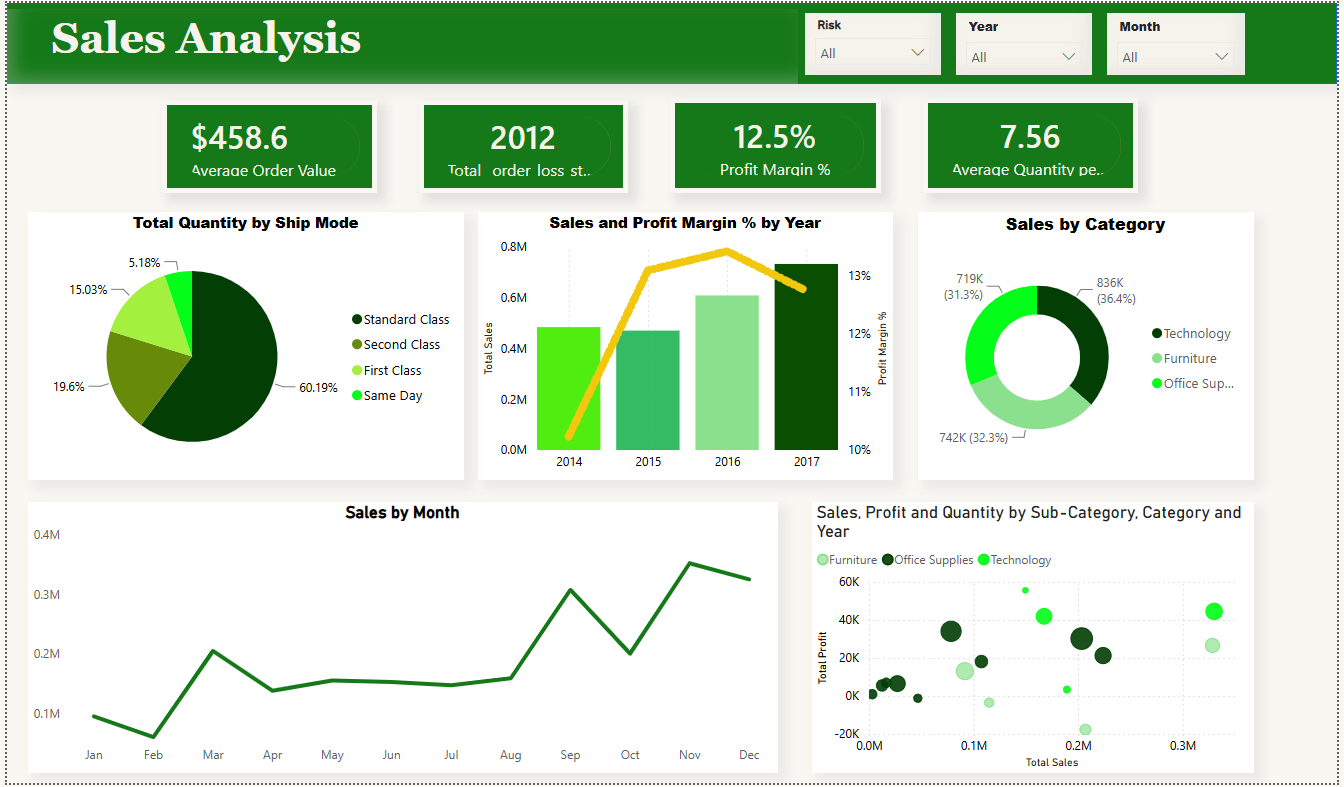

This screenshot's page, from the dashboard's own definition file:
{"tool":"powerbi","page":{"name":"Sales Analysis","canvas":[1330,780],"ordinal":1},"visuals":[{"type":"shape","box":[0,0,1330,81],"z":0},{"type":"cardVisual","fields":{"Data":["Measuress.Average Order Value"]},"box":[155,97,215,93],"z":0,"group":"g1"},{"type":"group","id":"g1","title":"Group 1","box":[155,95,976,95],"z":1000},{"type":"cardVisual","fields":{"Data":["Measuress.total _order_loss_statistic"]},"box":[412,97.1,209,92.9],"z":1000,"group":"g1"},{"type":"slicer","fields":{"Values":["DimDate.Year"]},"box":[949,10,136,62],"z":2000},{"type":"cardVisual","fields":{"Data":["Measuress.Profit Margin %"]},"box":[663,95.4,211,94.6],"z":2000,"group":"g1"},{"type":"slicer","fields":{"Values":["FactSales.Risk"]},"box":[798,10,136,62],"z":3000},{"type":"cardVisual","fields":{"Data":["Measuress.Average Quantity per Order"]},"box":[916,95,215,95],"z":3000,"group":"g1"},{"type":"slicer","fields":{"Values":["DimDate.Month Name"]},"box":[1100,10,138,62],"z":4000},{"type":"textbox","box":[0,6,791,75],"z":5000},{"type":"lineClusteredColumnComboChart","title":"Sales and Profit Margin % by Year","fields":{"Y":["Measuress.Total Sales"],"Category":["DimDate.Year"],"Y2":["Measuress.Profit Margin %"]},"box":[471,209,415,268],"z":6000},{"type":"scatterChart","title":"Sales, Profit and Quantity by Sub-Category, Category and Year","fields":{"Y":["Measuress.Total Profit"],"X":["Measuress.Total Sales"],"Category":["FactSales.Sub-Category"],"Size":["Measuress.Total Quantity"],"Series":["FactSales.Category"]},"box":[805,499,442,271],"z":7000},{"type":"lineChart","title":"Sales by Month ","fields":{"Category":["DimDate.Month Name"],"Y":["Measuress.Total Sales"]},"box":[21,499,750,271],"z":8000},{"type":"donutChart","title":"Sales by Category","fields":{"Category":["FactSales.Category"],"Y":["Measuress.Total Sales"]},"box":[911,209,336,268],"z":8001},{"type":"pieChart","fields":{"Category":["FactSales.Ship Mode"],"Y":["Measuress.Total Quantity"]},"box":[21,209,436,268],"z":8002}]}

Visuals, with their boxes in screenshot pixels (x1, y1, x2, y2), scaled from the page's 1330x780 canvas onto the 1344x787 screenshot:
shape: detection(0, 0, 1343, 82)
cardVisual - Measuress.Average Order Value: detection(157, 98, 374, 192)
"Group 1" group: detection(157, 96, 1143, 192)
cardVisual - Measuress.total _order_loss_statistic: detection(416, 98, 628, 192)
slicer - DimDate.Year: detection(959, 10, 1096, 73)
cardVisual - Measuress.Profit Margin %: detection(670, 96, 883, 192)
slicer - FactSales.Risk: detection(806, 10, 944, 73)
cardVisual - Measuress.Average Quantity per Order: detection(926, 96, 1143, 192)
slicer - DimDate.Month Name: detection(1112, 10, 1251, 73)
textbox: detection(0, 6, 799, 82)
"Sales and Profit Margin % by Year" lineClusteredColumnComboChart: detection(476, 211, 895, 481)
"Sales, Profit and Quantity by Sub-Category, Category and Year" scatterChart: detection(813, 503, 1260, 777)
"Sales by Month " lineChart: detection(21, 503, 779, 777)
"Sales by Category" donutChart: detection(921, 211, 1260, 481)
pieChart - FactSales.Ship Mode x Measuress.Total Quantity: detection(21, 211, 462, 481)
